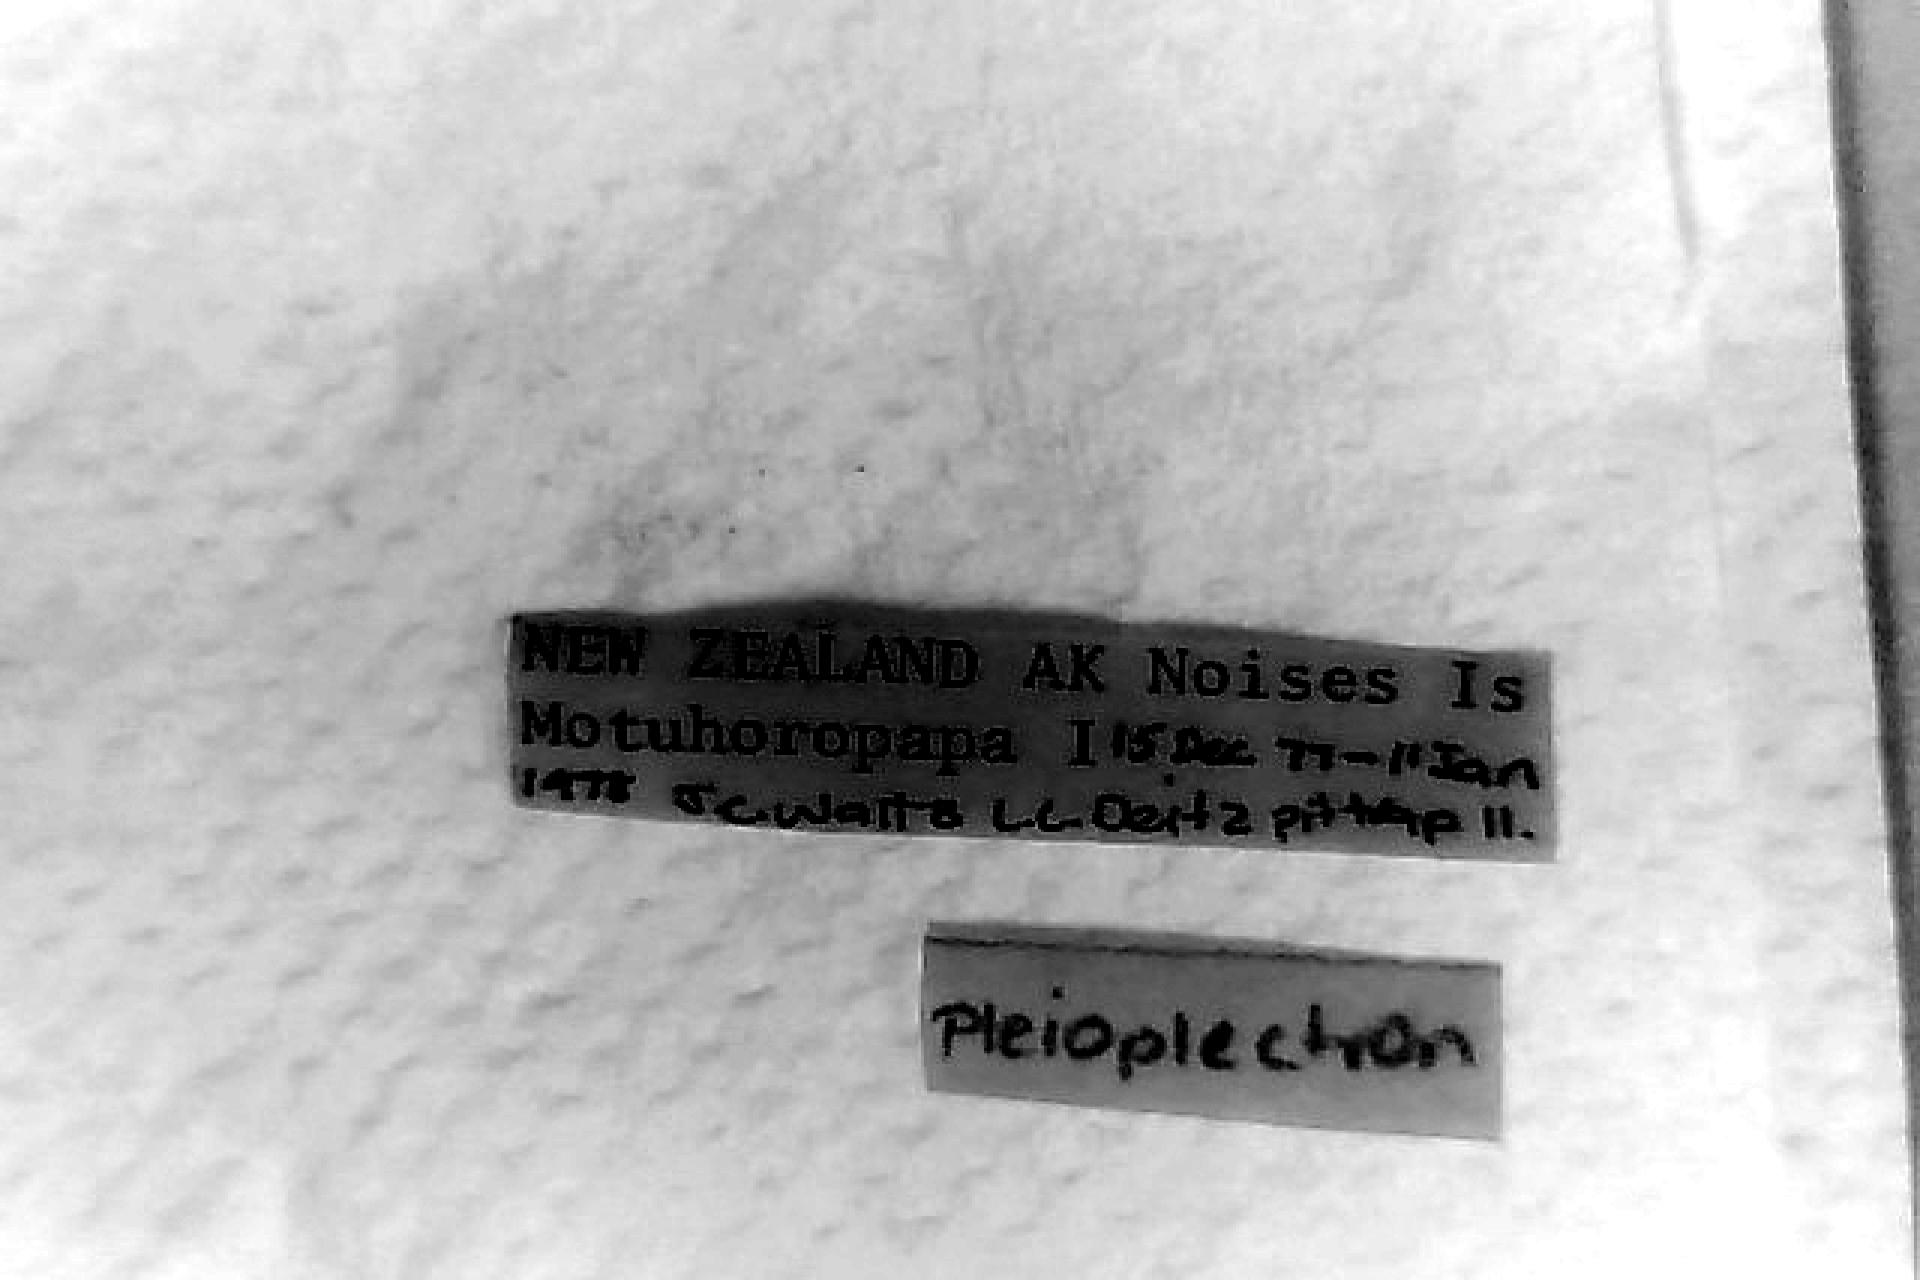hand_label: (922, 930, 1504, 1138)
mixed_label: (510, 607, 1549, 858)
